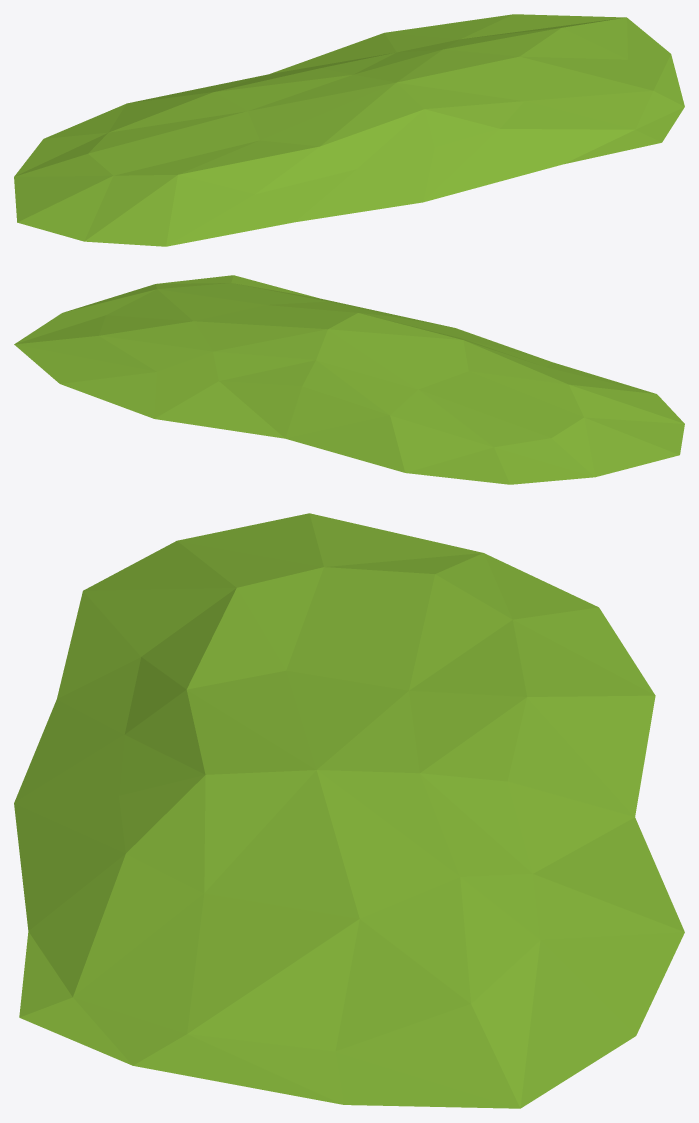
The model's file is co_Hillock_A_02.fbx.
3 renders of one model, top to bottom at view 1: azimuth 30°, elevation 25°; view 2: azimuth 150°, elevation 25°; view 3: azimuth 270°, elevation 25°, orthographic. The views are drawn at different scales.
Parts seen in each view (by area): view 1: Hillock_A_02; view 2: Hillock_A_02; view 3: Hillock_A_02.
Part boxes in pixels (<box>): Hillock_A_02: <box>14,14,684,246</box>; Hillock_A_02: <box>14,275,684,484</box>; Hillock_A_02: <box>14,513,684,1108</box>.
Bounding box in the file's own units: 19961 × 1302 × 9505.
